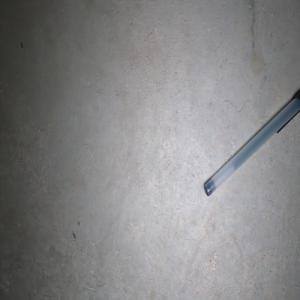Pen: (204, 90, 300, 196)
